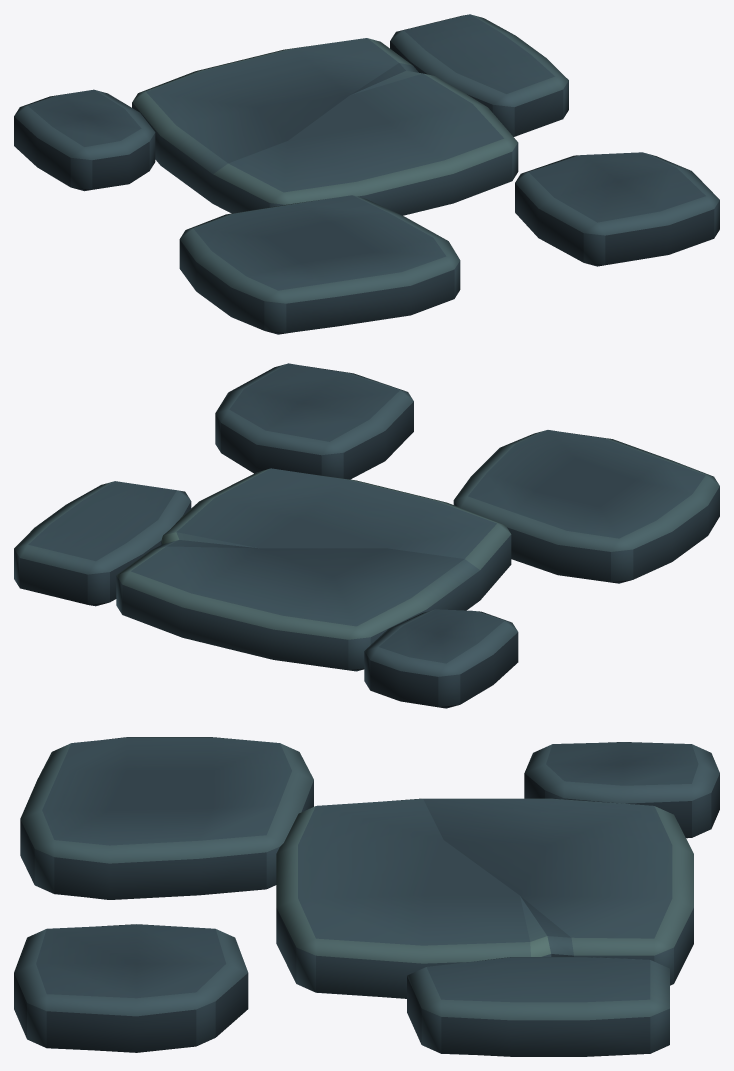
File: stone_path_5_LOD_setup.fbx
3 views of the same model, one above another, from view 1: azimuth 30°, elevation 25°; view 2: azimuth 150°, elevation 25°; view 3: azimuth 270°, elevation 25° (orthographic). The views are drawn at different scales.
Visible parts, largest first — view 1: stone_path_5_LOD0; view 2: stone_path_5_LOD0; view 3: stone_path_5_LOD0.
Part boxes in pixels (bbox=[...]): stone_path_5_LOD0: bbox=[14, 14, 719, 334]; stone_path_5_LOD0: bbox=[14, 363, 719, 708]; stone_path_5_LOD0: bbox=[14, 737, 719, 1056].
Size of what is drawn, in the model's own units: 205 by 18.28 by 216.
